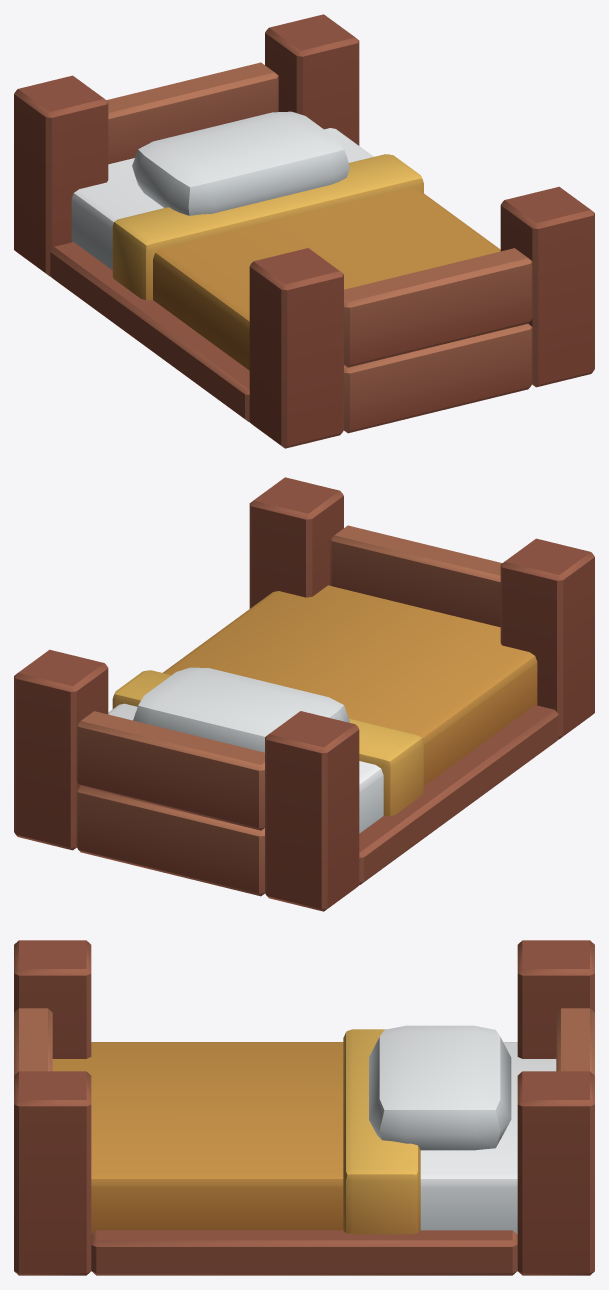
The model's file is bed_A_single.glb.
The picture shows the model from 3 angles, top to bottom: view 1: azimuth 30°, elevation 25°; view 2: azimuth 150°, elevation 25°; view 3: azimuth 270°, elevation 25°; orthographic projection. The views are drawn at different scales.
Parts seen in each view (by area): view 1: bed_A_single; view 2: bed_A_single; view 3: bed_A_single.
Boxes of the visible parts, x1,y1,x2,y2 form: bed_A_single: (14,14,594,448); bed_A_single: (14,477,594,911); bed_A_single: (14,940,594,1275).
Bounding box in the file's own units: 2 × 1 × 3.
Materials: 1 (1 with a texture image).
